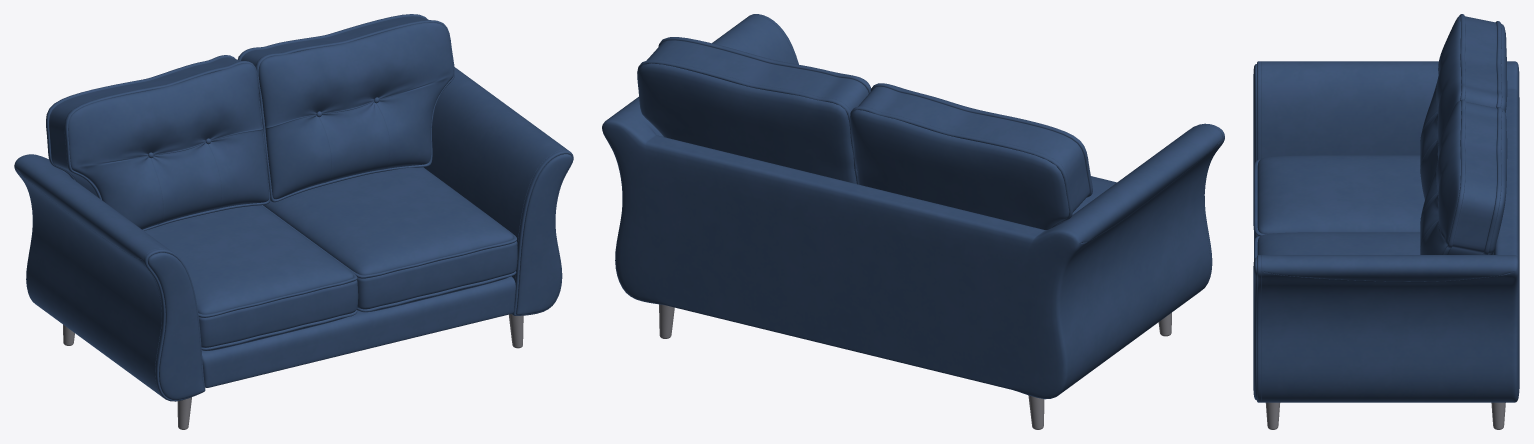
Rendered from Sofa.glb.
The picture shows the model from 3 angles, left to right: view 1: azimuth 30°, elevation 25°; view 2: azimuth 150°, elevation 25°; view 3: azimuth 270°, elevation 25°; orthographic projection. The views are drawn at different scales.
Visible parts, largest first — view 1: Bard Medium Sofa_06_2; view 2: Bard Medium Sofa_06_2; view 3: Bard Medium Sofa_06_2.
Boxes of the visible parts, left/top/right/bottom form: Bard Medium Sofa_06_2: left=14, top=14, right=573, bottom=429; Bard Medium Sofa_06_2: left=602, top=14, right=1224, bottom=429; Bard Medium Sofa_06_2: left=1253, top=14, right=1519, bottom=429.
Size of the model in its own units: 1.68 by 0.9695 by 0.9196.
1 material, 1 textured.
